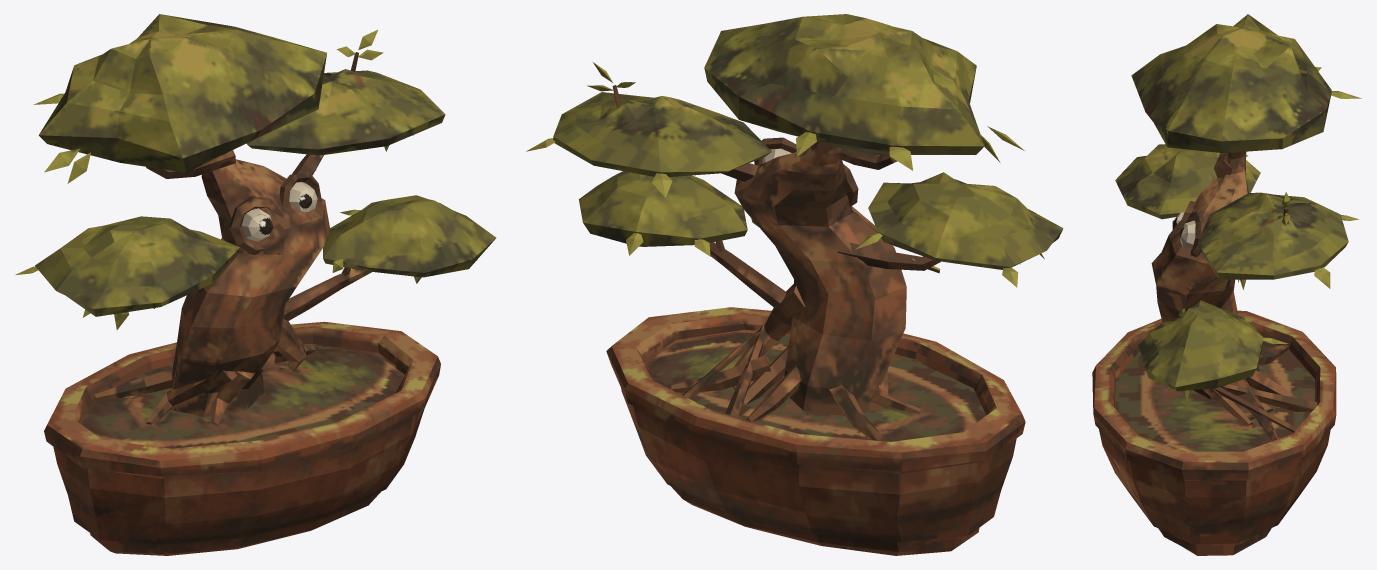
The model's file is CI08_LivingBonsai.fbx.
The picture shows the model from 3 angles, left to right: view 1: azimuth 30°, elevation 25°; view 2: azimuth 150°, elevation 25°; view 3: azimuth 270°, elevation 25°; orthographic projection. The views are drawn at different scales.
Parts seen in each view (by area): view 1: CI08_LivingBonsai; view 2: CI08_LivingBonsai; view 3: CI08_LivingBonsai.
Part boxes in pixels (x1,y1,x2,y2): CI08_LivingBonsai: [15, 14, 496, 555]; CI08_LivingBonsai: [526, 14, 1063, 555]; CI08_LivingBonsai: [1092, 14, 1361, 555].
Size of the model in its own units: 0.1949 by 0.2048 by 0.1141.
1 material, 1 textured.
